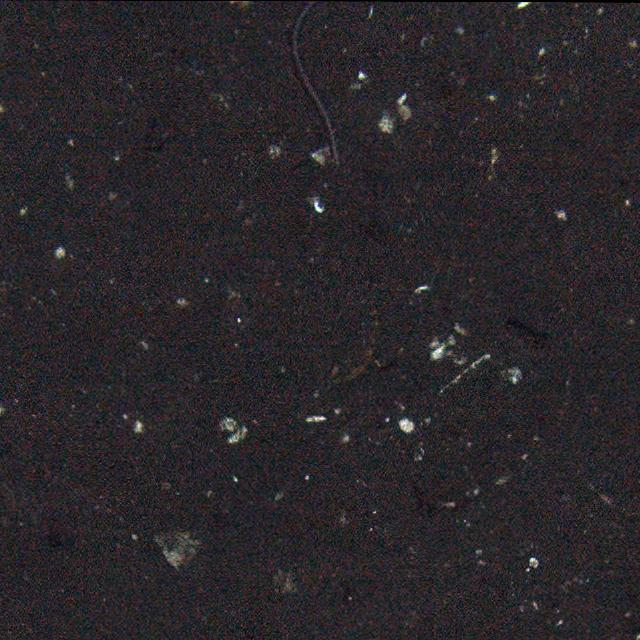eel: (290, 1, 348, 168)
